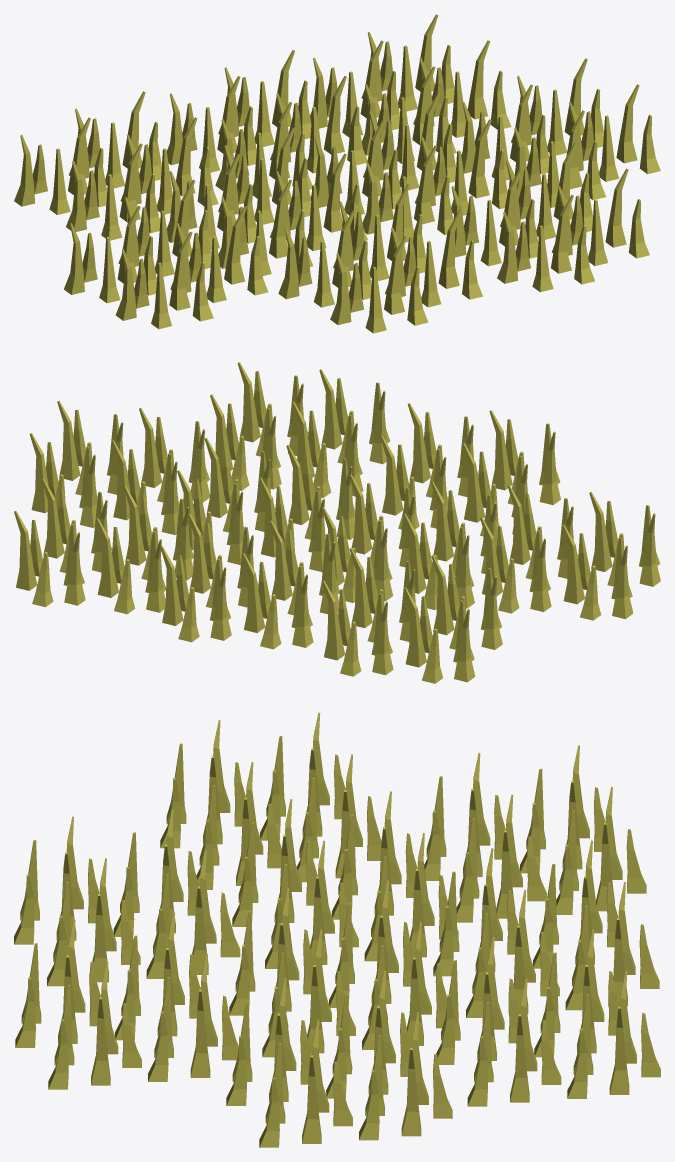
Rendered from GrassLarge2.fbx.
The picture shows the model from 3 angles, top to bottom: view 1: azimuth 30°, elevation 25°; view 2: azimuth 150°, elevation 25°; view 3: azimuth 270°, elevation 25°; orthographic projection. The views are drawn at different scales.
Visible parts, largest first — view 1: Cube.017; view 2: Cube.017; view 3: Cube.017.
Part boxes in pixels (x1,y1,x2,y2): Cube.017: (14, 14, 660, 333); Cube.017: (14, 362, 660, 683); Cube.017: (14, 712, 660, 1147).
Bounding box in the file's own units: 787 × 95.05 × 613.
